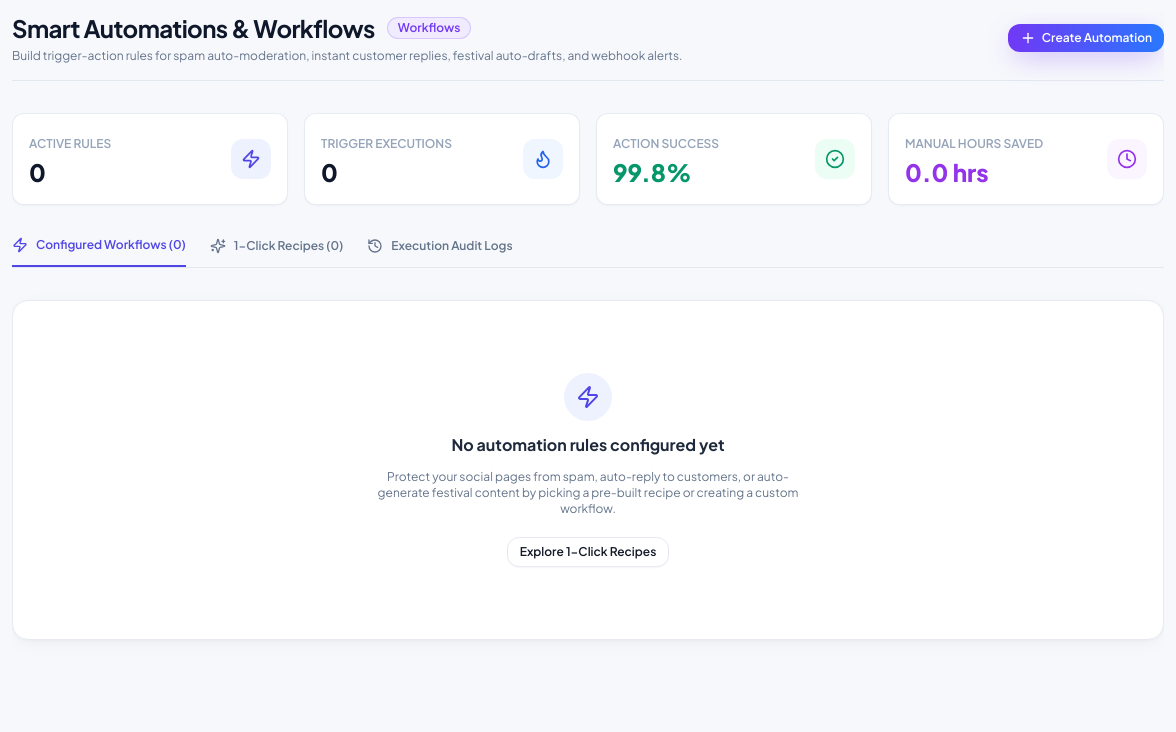
Smart Automations & Workflows Page › renders execution audit logs tab
The width and height of the screenshot is (1176, 732).
Click the button "Execution Audit Logs" at (440, 252), box [367, 237, 513, 267]
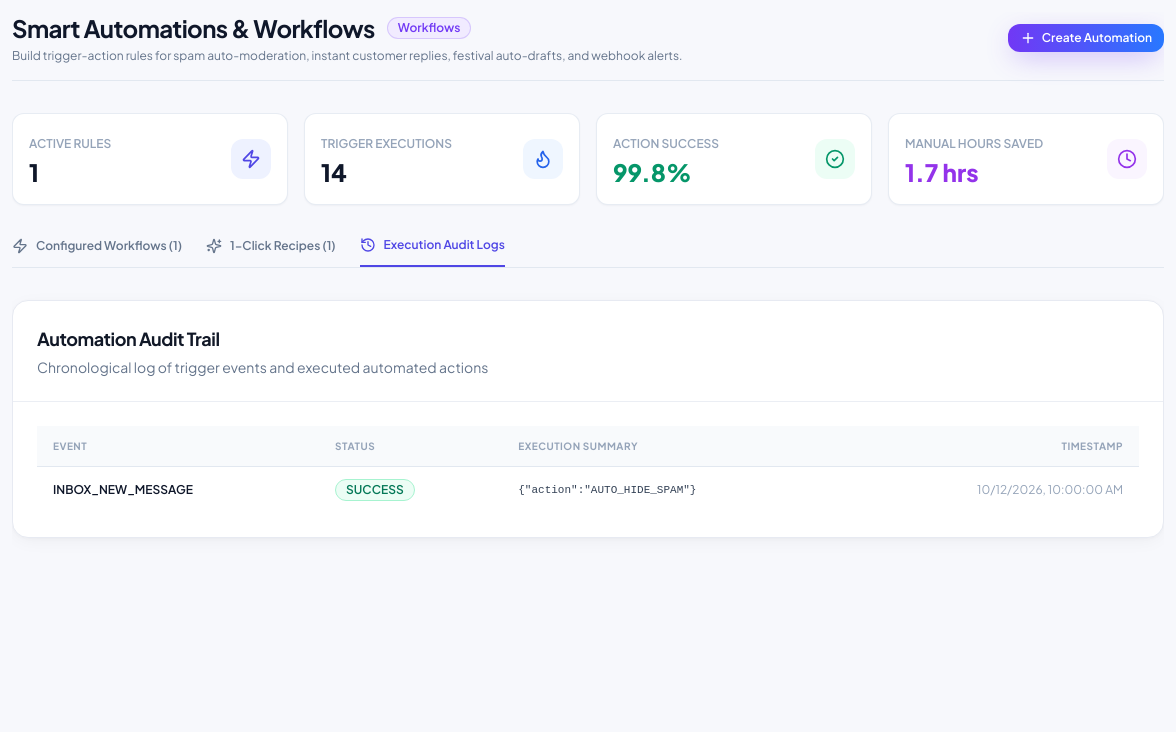
Expected: the heading "Automation Audit Trail" is shown, [37, 327, 220, 350]
Expected: the text "INBOX_NEW_MESSAGE" is shown, [37, 466, 319, 513]
